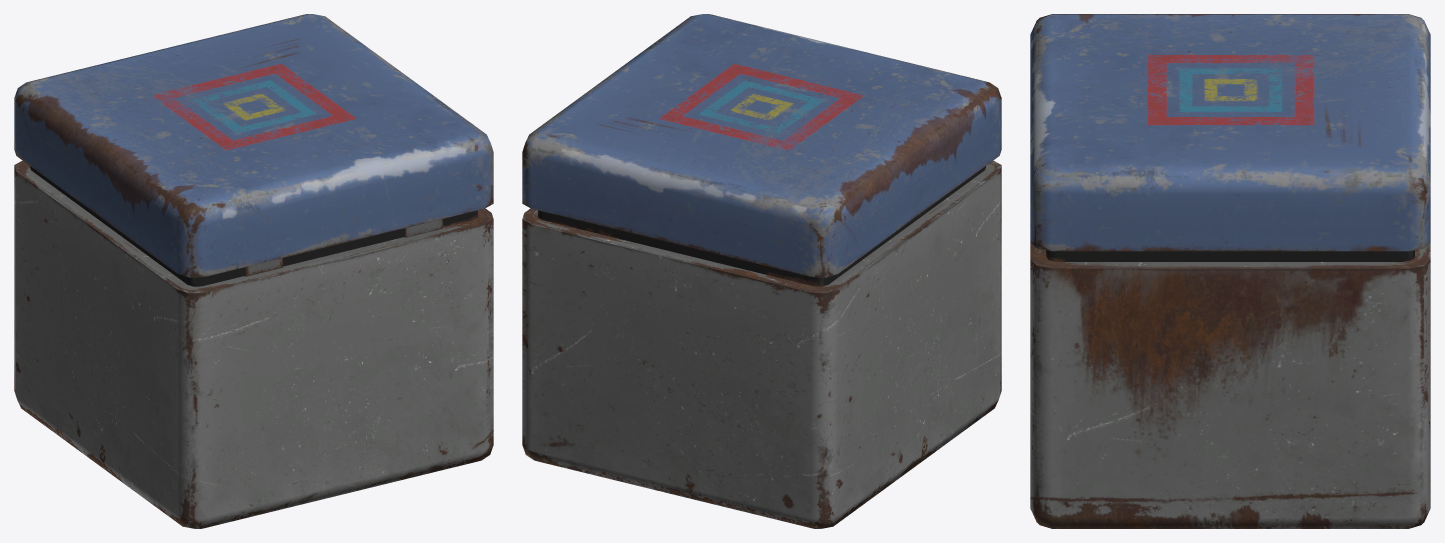
The picture shows the model from 3 angles, left to right: view 1: azimuth 30°, elevation 25°; view 2: azimuth 150°, elevation 25°; view 3: azimuth 270°, elevation 25°; orthographic projection. The views are drawn at different scales.
Visible parts, largest first — view 1: SM_PullableBox.mo; view 2: SM_PullableBox.mo; view 3: SM_PullableBox.mo.
Part boxes in pixels (x1=…): SM_PullableBox.mo: x1=14, y1=14, x2=493, y2=528; SM_PullableBox.mo: x1=522, y1=14, x2=1001, y2=528; SM_PullableBox.mo: x1=1030, y1=14, x2=1430, y2=528.
Size of the model in its own units: 1.5 by 1.5 by 1.5.
1 material, 1 textured.
